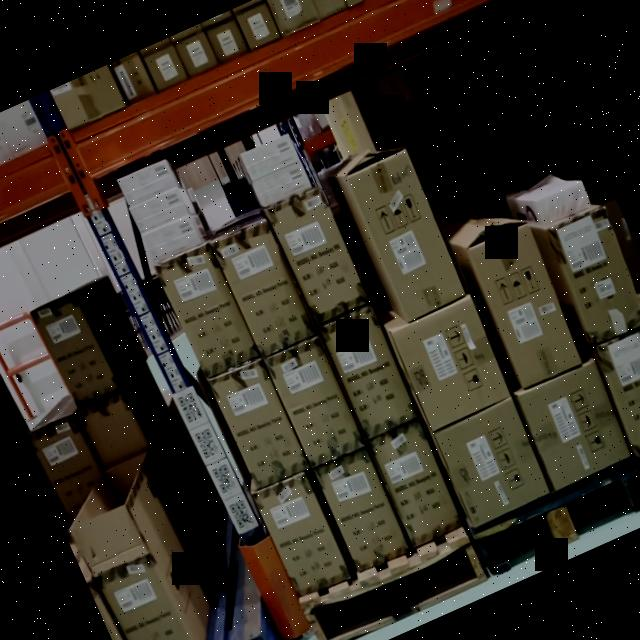box: (348, 153, 466, 320), (467, 223, 582, 389), (392, 298, 510, 428), (432, 400, 552, 526), (266, 186, 370, 324), (212, 220, 316, 355), (519, 364, 631, 488), (156, 243, 258, 377), (320, 306, 420, 441), (252, 470, 352, 601), (548, 207, 640, 346), (266, 337, 364, 467), (210, 360, 308, 488), (315, 448, 410, 572), (370, 425, 463, 548), (32, 292, 119, 406), (94, 553, 193, 640), (598, 331, 640, 458), (119, 159, 180, 209), (142, 215, 202, 263), (253, 160, 312, 207), (241, 134, 300, 180), (132, 192, 188, 234)
